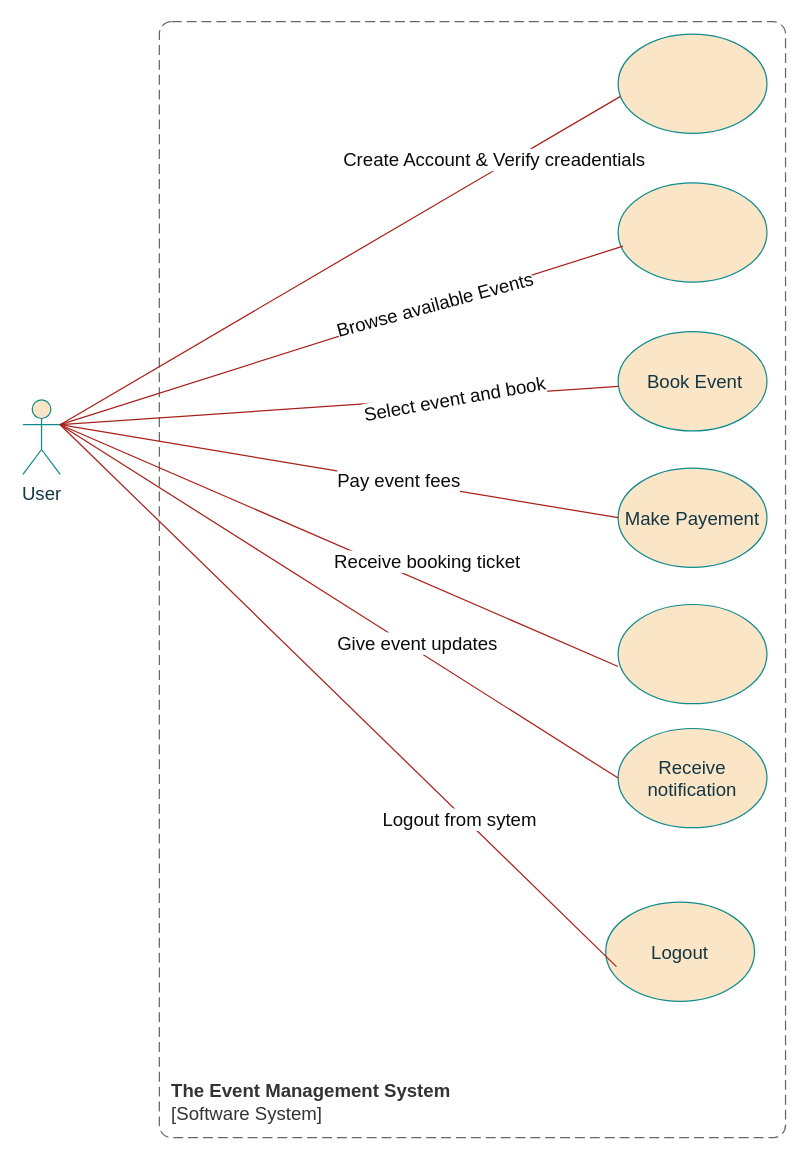
Image size: 807x1159. Some labels were removed from this diagram. The centre of each missing label's shape, as x and y in pixels:
"Generate Ticket" belongs at (692,653).
"Register & Login" belongs at (692,83).
"View Events" belongs at (692,232).
